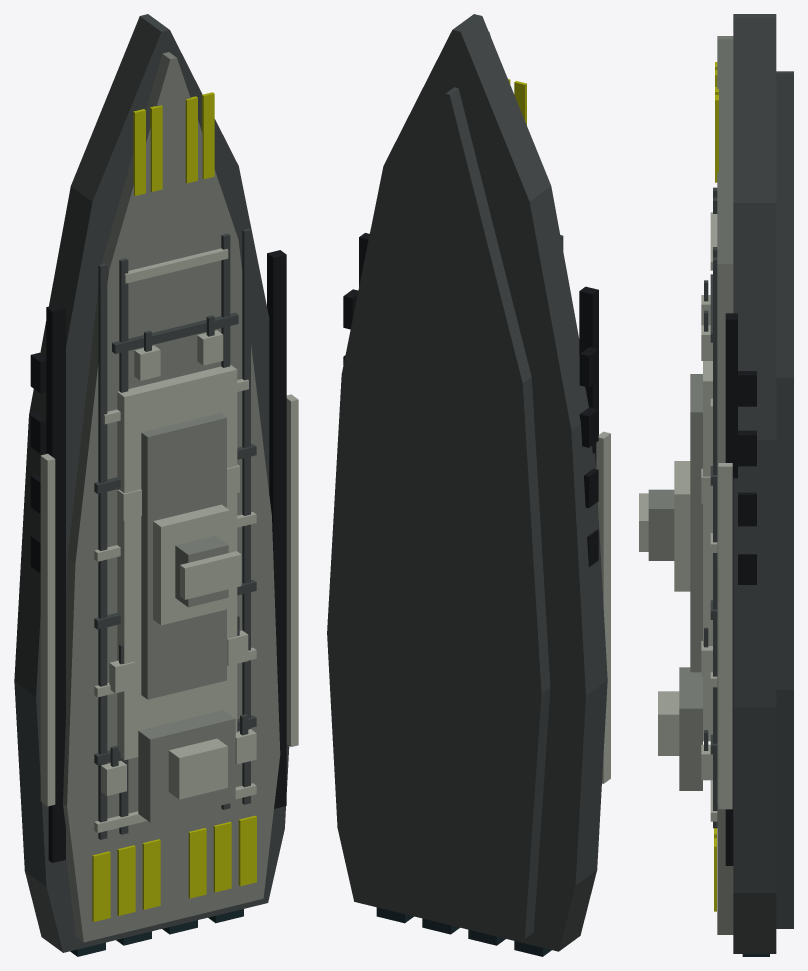
Rendered from capital_ship.obj.
3 renders of one model, left to right at view 1: azimuth 30°, elevation 25°; view 2: azimuth 150°, elevation 25°; view 3: azimuth 270°, elevation 25°, orthographic.
Visible parts, largest first — view 1: Upper_Deck, Main_Hull, Center_Deck_1, Center_Deck_2, Side_Trench_1, Side_Trench_-1, Rear_Block, Outer_Rail_-1, Long_Panel_-1.72, Bridge_Base, Outer_Rail_1, Long_Panel_1.72 (+27 smaller); view 2: Lower_Keel, Main_Hull, Outer_Rail_-1, Side_Trench_-1, Side_Bay_-1_7, Side_Bay_-1_6; view 3: Main_Hull, Lower_Keel, Upper_Deck, Outer_Rail_1, Center_Deck_2, Side_Trench_1, Center_Deck_1, Rear_Block, Long_Panel_1.72, Bridge_Base, Bridge_Tower, Rear_Tower (+8 smaller).
Boxes of the visible parts, <box> form: Upper_Deck: <box>63,52,280,942</box>; Main_Hull: <box>14,14,289,952</box>; Center_Deck_1: <box>117,364,237,760</box>; Center_Deck_2: <box>141,413,226,699</box>; Side_Trench_1: <box>267,250,286,808</box>; Side_Trench_-1: <box>46,304,65,862</box>; Rear_Block: <box>138,710,235,822</box>; Outer_Rail_-1: <box>40,453,55,806</box>; Long_Panel_-1.72: <box>98,263,107,839</box>; Bridge_Base: <box>153,504,229,625</box>; Outer_Rail_1: <box>286,394,298,746</box>; Long_Panel_1.72: <box>242,228,250,804</box>; Lower_Keel: <box>353,87,550,938</box>; Main_Hull: <box>327,14,607,951</box>; Outer_Rail_-1: <box>596,431,610,783</box>; Side_Trench_-1: <box>579,286,598,468</box>; Side_Bay_-1_7: <box>579,347,598,387</box>; Side_Bay_-1_6: <box>579,407,598,447</box>; Main_Hull: <box>733,14,776,953</box>; Lower_Keel: <box>776,71,793,928</box>; Upper_Deck: <box>717,36,733,934</box>; Outer_Rail_1: <box>718,463,732,809</box>; Center_Deck_2: <box>690,374,702,672</box>; Side_Trench_1: <box>725,313,737,865</box>; Center_Deck_1: <box>703,361,712,741</box>; Rear_Block: <box>679,667,702,790</box>; Long_Panel_1.72: <box>713,257,717,828</box>; Bridge_Base: <box>674,461,690,591</box>; Bridge_Tower: <box>648,489,674,560</box>; Rear_Tower: <box>658,691,679,755</box>.
Bounding box in the file's own units: 6.2 × 20.78 × 3.24.
